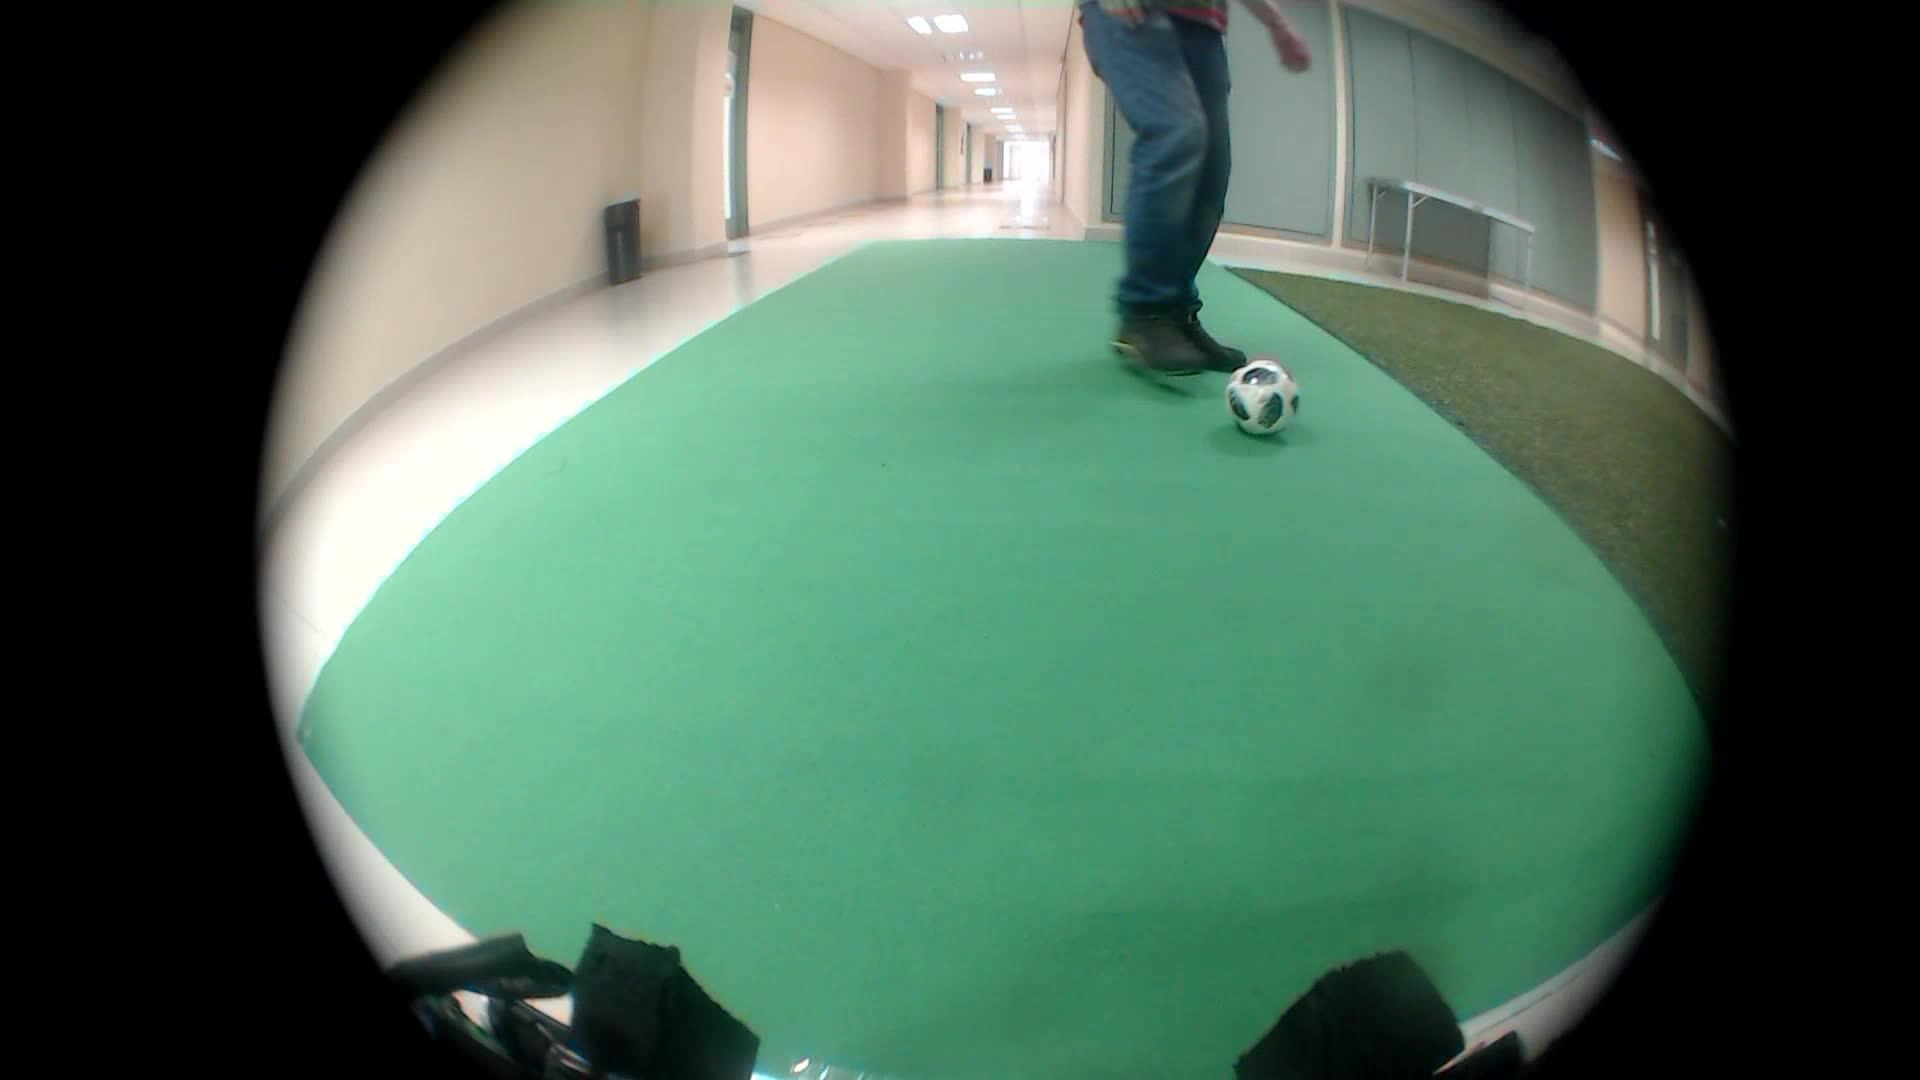ball: (1218, 349, 1308, 440)
